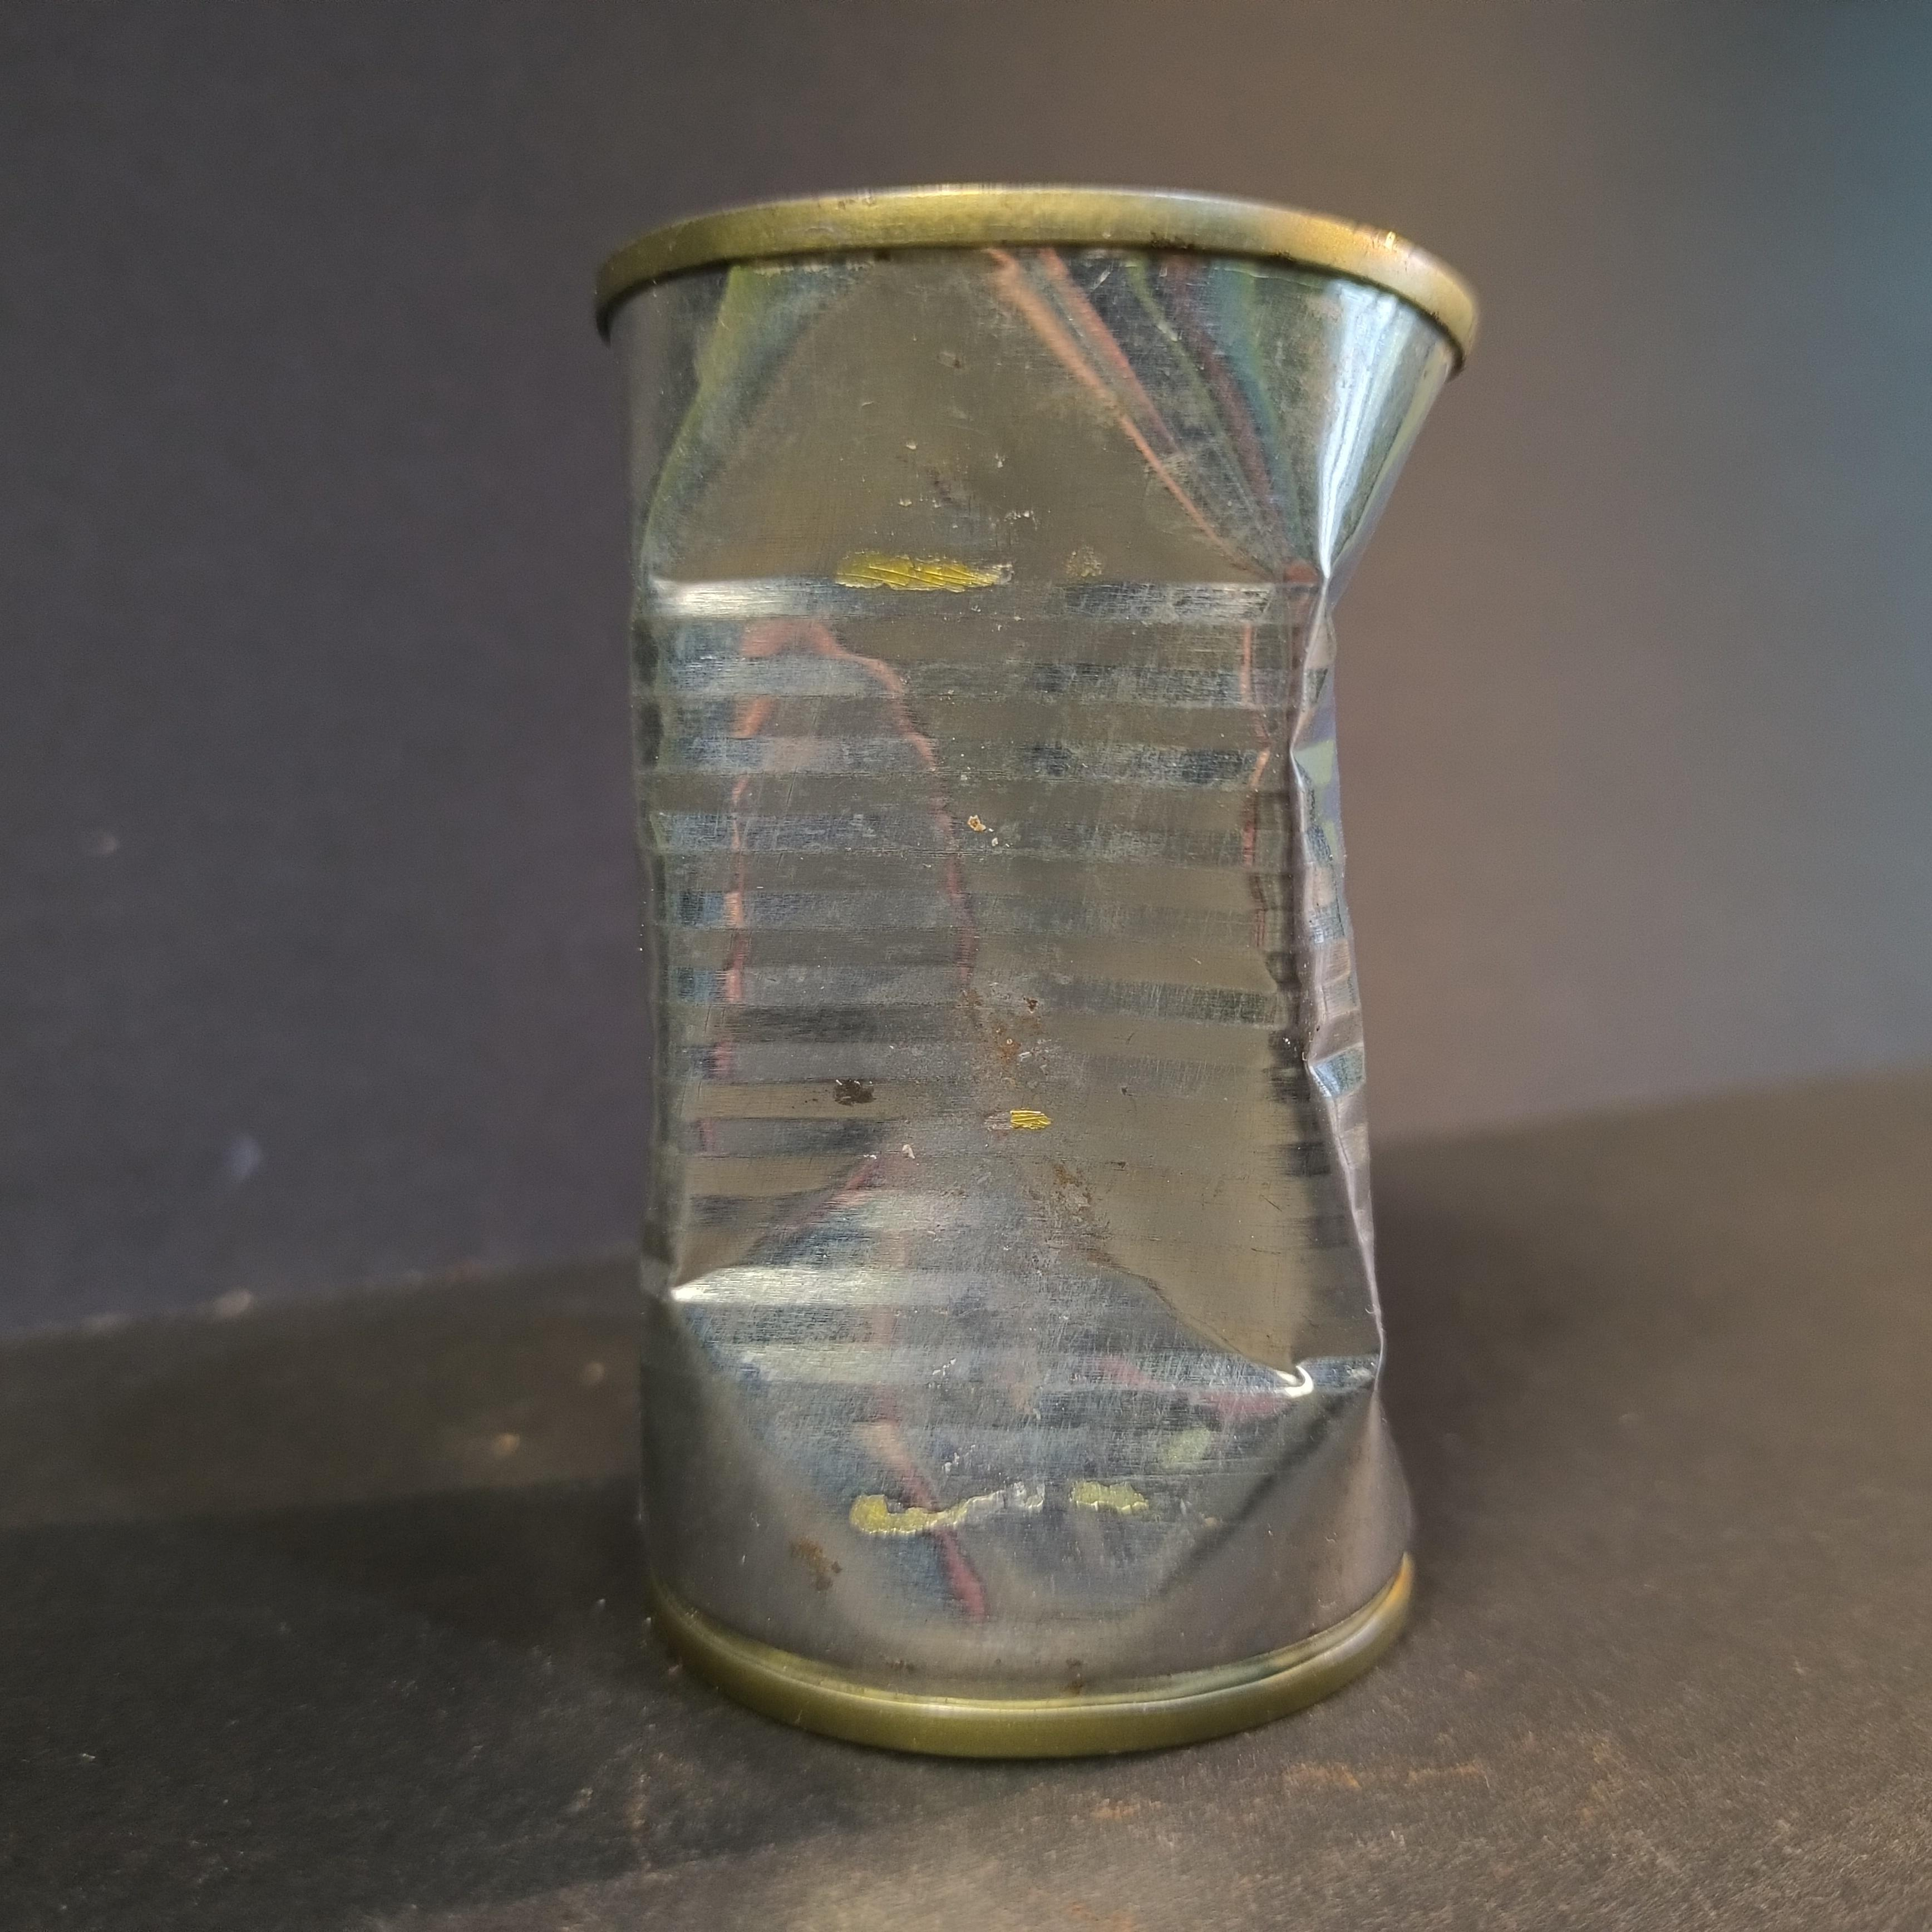Dented: (525, 120, 1520, 1764)
